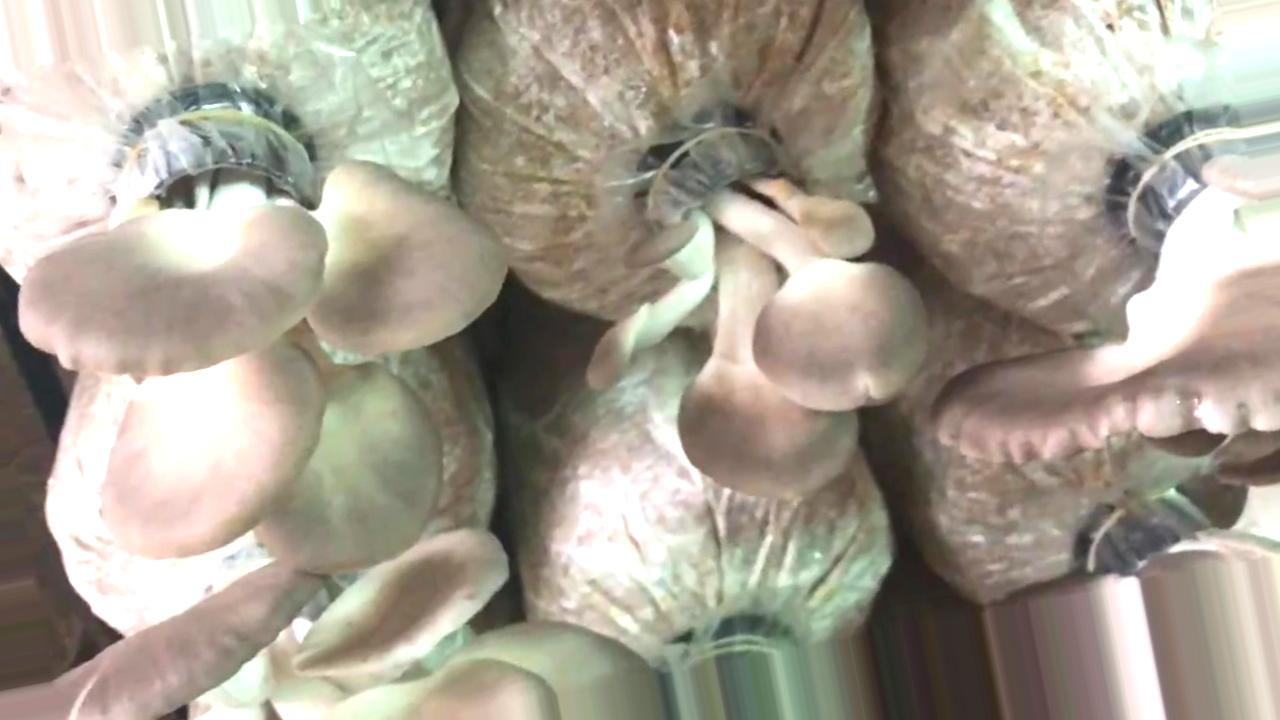nam: (14, 95, 513, 582), (2, 534, 666, 720), (938, 95, 1280, 450), (602, 125, 923, 498)
